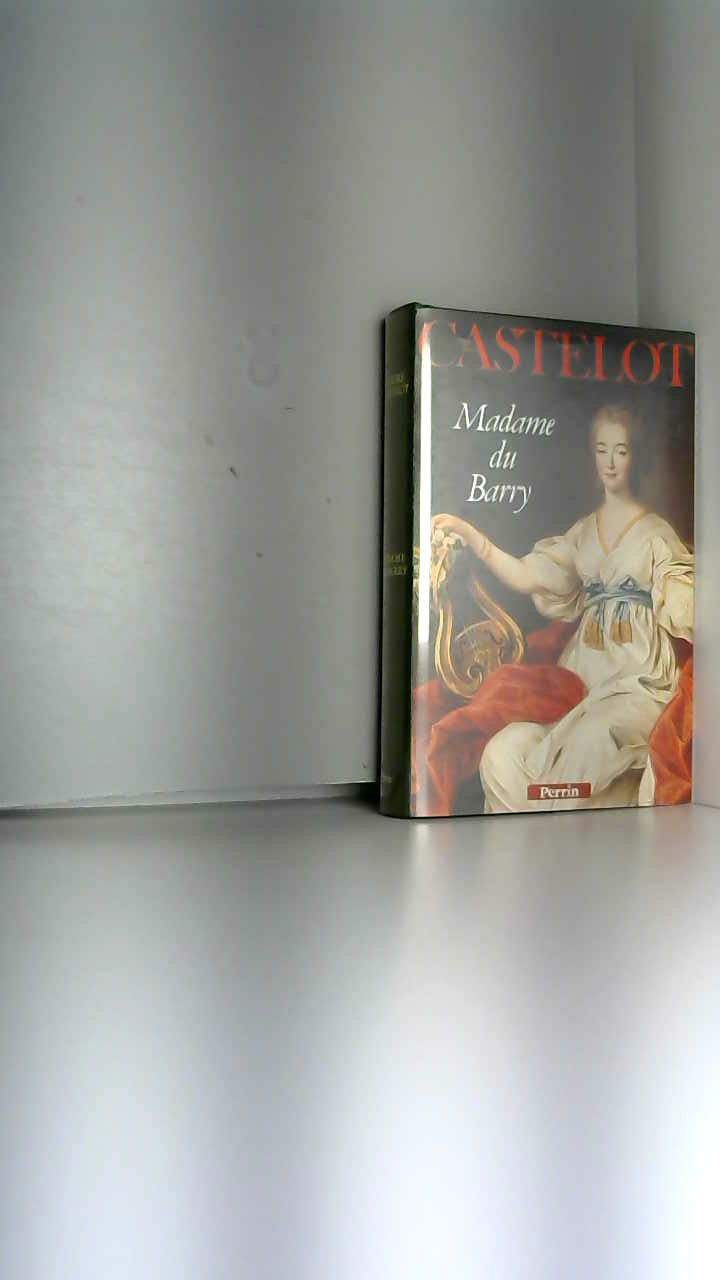book: (350, 270, 720, 840)
